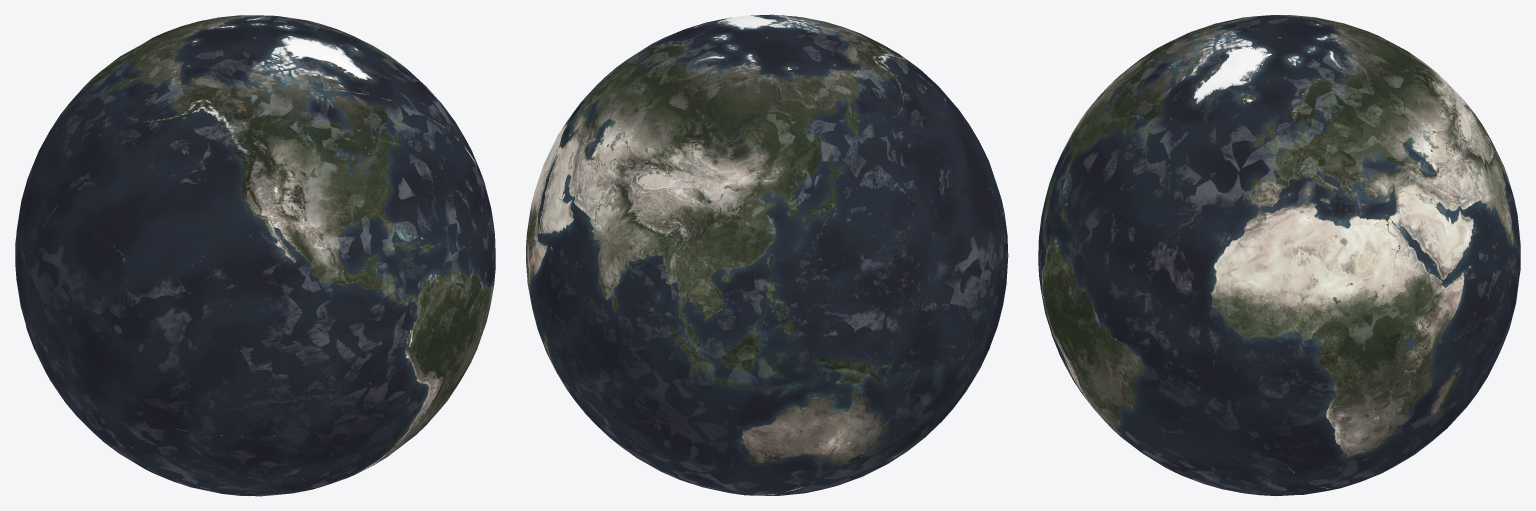
File: earth.glb
3 views of the same model, side by side, from view 1: azimuth 30°, elevation 25°; view 2: azimuth 150°, elevation 25°; view 3: azimuth 270°, elevation 25° (orthographic).
Parts seen in each view (by area): view 1: Earth_Geo2_Earth_0, Earth_Geo2_Earth_3_0, Earth_Geo2_Earth_2_0, Clouds_Geo2, Atmosphere_Geo2_Atmosphere_0; view 2: Earth_Geo2_Earth_3_0, Earth_Geo2_Earth_4_0, Earth_Geo2_Earth_0, Clouds_Geo2, Earth_Geo2_Earth_2_0, Atmosphere_Geo2_Atmosphere_0; view 3: Earth_Geo2_Earth_3_0, Earth_Geo2_Earth_4_0, Earth_Geo2_Earth_0, Earth_Geo2_Earth_2_0, Clouds_Geo2, Atmosphere_Geo2_Atmosphere_0.
Part boxes in pixels (x1,y1,x2,y2): Earth_Geo2_Earth_0: [22, 89, 495, 436]; Earth_Geo2_Earth_3_0: [15, 15, 486, 303]; Earth_Geo2_Earth_2_0: [22, 254, 495, 496]; Clouds_Geo2: [16, 16, 495, 495]; Atmosphere_Geo2_Atmosphere_0: [14, 14, 496, 496]; Earth_Geo2_Earth_3_0: [543, 14, 947, 360]; Earth_Geo2_Earth_4_0: [526, 165, 924, 495]; Earth_Geo2_Earth_0: [783, 15, 1008, 362]; Clouds_Geo2: [530, 16, 1006, 495]; Earth_Geo2_Earth_2_0: [649, 263, 989, 495]; Atmosphere_Geo2_Atmosphere_0: [525, 14, 1008, 496]; Earth_Geo2_Earth_3_0: [1170, 15, 1507, 321]; Earth_Geo2_Earth_4_0: [1203, 177, 1520, 488]; Earth_Geo2_Earth_0: [1038, 24, 1213, 343]; Earth_Geo2_Earth_2_0: [1051, 264, 1339, 495]; Clouds_Geo2: [1040, 15, 1519, 495]; Atmosphere_Geo2_Atmosphere_0: [1037, 14, 1521, 496].
Size of the model in its own units: 1.04 by 1.03 by 1.04.
9 materials, 8 textured.
